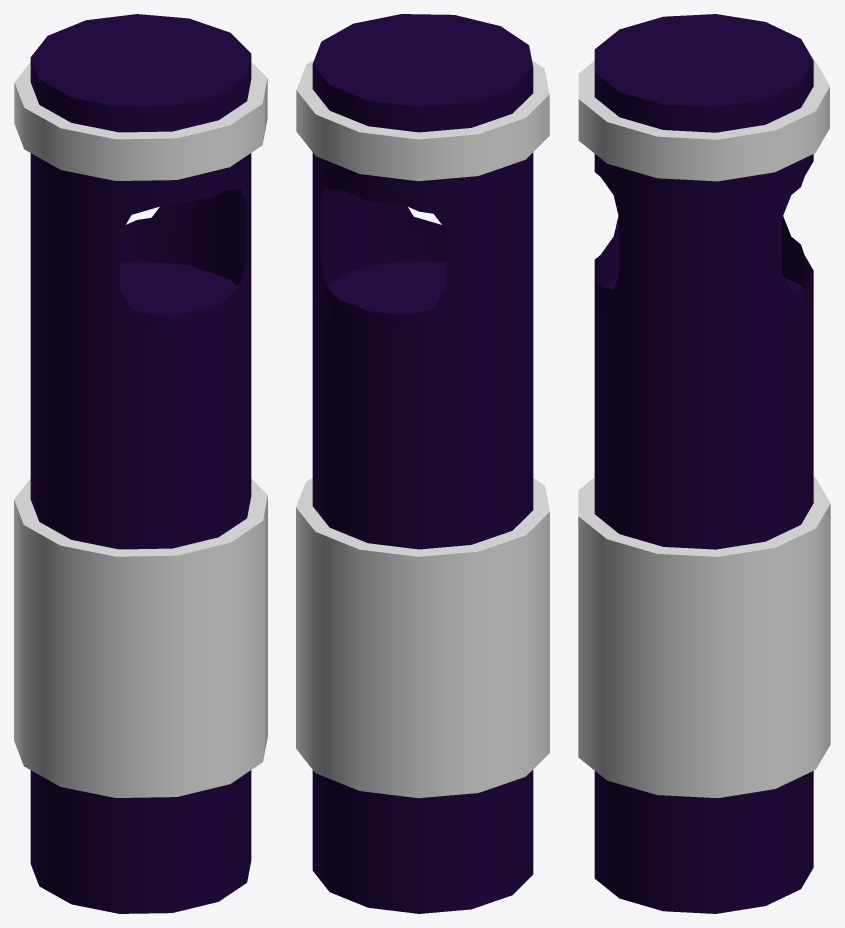
Rendered from Lixeira.fbx.
3 renders of one model, left to right at view 1: azimuth 30°, elevation 25°; view 2: azimuth 150°, elevation 25°; view 3: azimuth 270°, elevation 25°, orthographic.
Parts seen in each view (by area): view 1: Cilindro; view 2: Cilindro; view 3: Cilindro.
Boxes of the visible parts, x1=… form: Cilindro: x1=14, y1=14, x2=267, y2=913; Cilindro: x1=296, y1=14, x2=549, y2=913; Cilindro: x1=578, y1=14, x2=830, y2=913.
Bounding box in the file's own units: 30.42 × 107 × 30.2.
